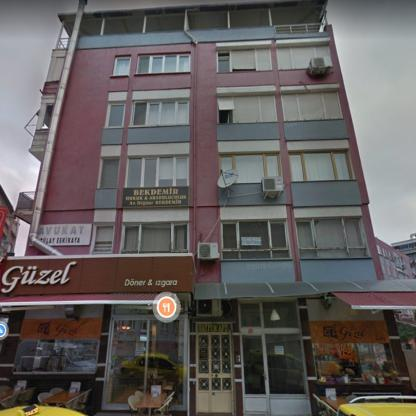door: (196, 322, 234, 413), (241, 332, 270, 415)
window: (102, 304, 187, 410), (239, 300, 311, 415), (295, 218, 370, 258), (13, 339, 99, 373), (221, 220, 291, 260), (121, 222, 188, 253), (125, 155, 189, 187), (289, 151, 352, 181), (219, 154, 282, 184), (282, 92, 342, 120), (129, 98, 189, 126), (277, 45, 332, 70), (216, 48, 272, 72), (233, 96, 277, 122), (136, 54, 190, 73), (91, 223, 114, 253), (97, 157, 119, 188), (105, 101, 126, 128), (113, 57, 130, 75), (217, 96, 235, 110)
